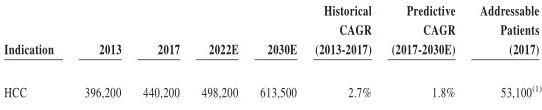column: (391, 1, 455, 109), (479, 1, 542, 110), (315, 1, 372, 108), (5, 2, 54, 110), (200, 1, 238, 109), (85, 2, 123, 109), (143, 1, 180, 109), (259, 1, 296, 109)
row: (1, 85, 542, 99), (1, 43, 542, 56), (1, 5, 542, 17), (1, 24, 542, 36)
